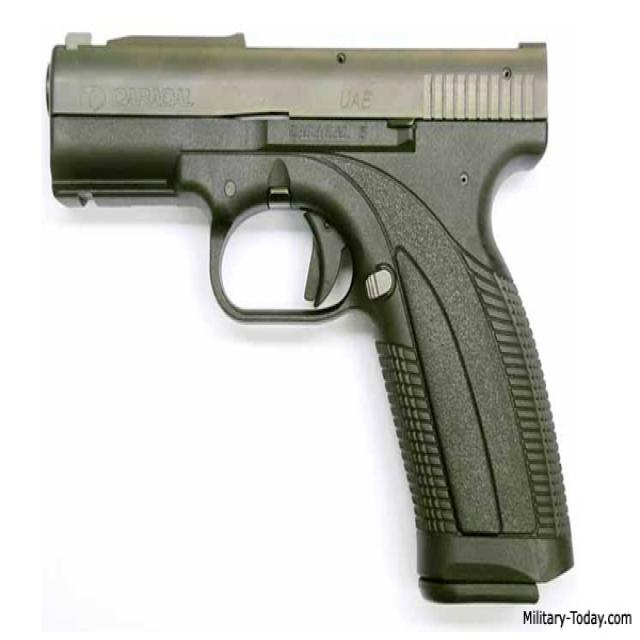Gun: (44, 22, 626, 612)
